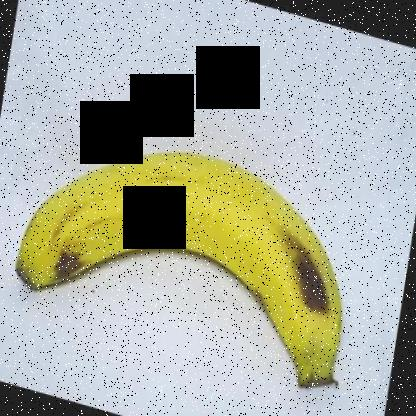freshripe: (6, 143, 346, 403)
